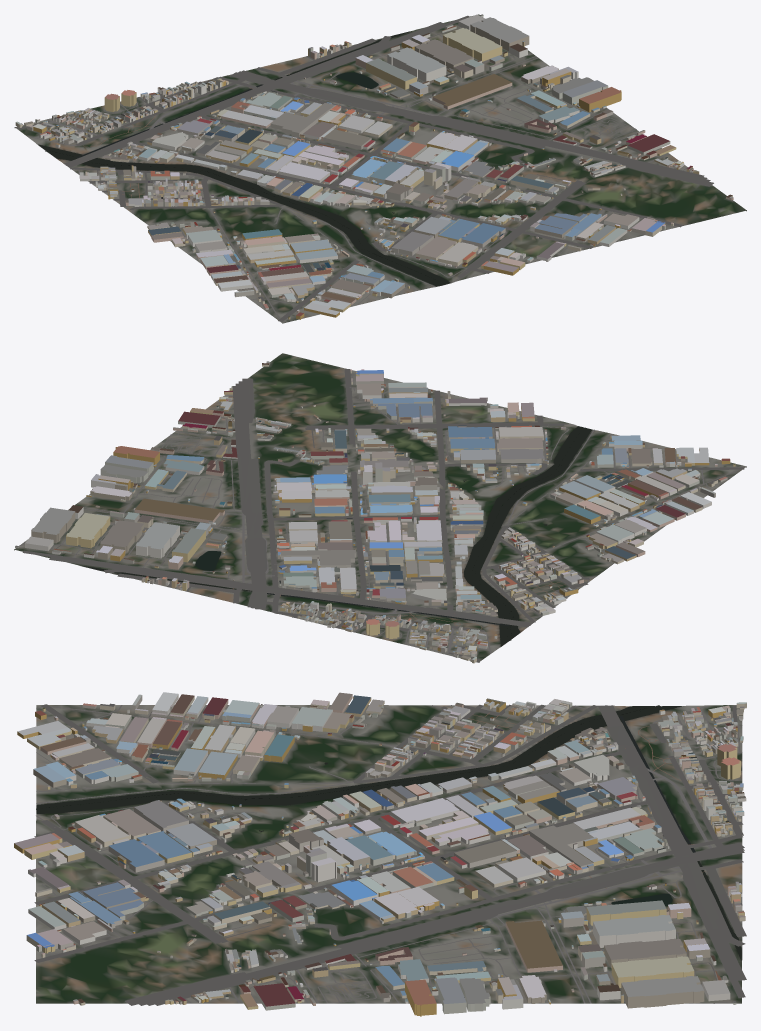
3 renders of one model, top to bottom at view 1: azimuth 30°, elevation 25°; view 2: azimuth 150°, elevation 25°; view 3: azimuth 270°, elevation 25°, orthographic. The views are drawn at different scales.
Parts seen in each view (by area): view 1: buildings, ground, roads, water; view 2: buildings, ground, roads, water; view 3: buildings, ground, roads, water.
Boxes of the visible parts, x1=… form: buildings: x1=15, y1=14, x2=733, y2=319; ground: x1=16, y1=14, x2=746, y2=323; roads: x1=14, y1=15, x2=713, y2=322; water: x1=38, y1=31, x2=450, y2=286; buildings: x1=15, y1=361, x2=735, y2=663; ground: x1=14, y1=353, x2=746, y2=662; roads: x1=19, y1=369, x2=744, y2=662; water: x1=81, y1=426, x2=592, y2=646; buildings: x1=14, y1=692, x2=746, y2=1016; ground: x1=36, y1=705, x2=742, y2=1003; roads: x1=34, y1=704, x2=746, y2=1005; water: x1=36, y1=705, x2=741, y2=960.
Size of the model in its own units: 1502 by 48.96 by 1454.
